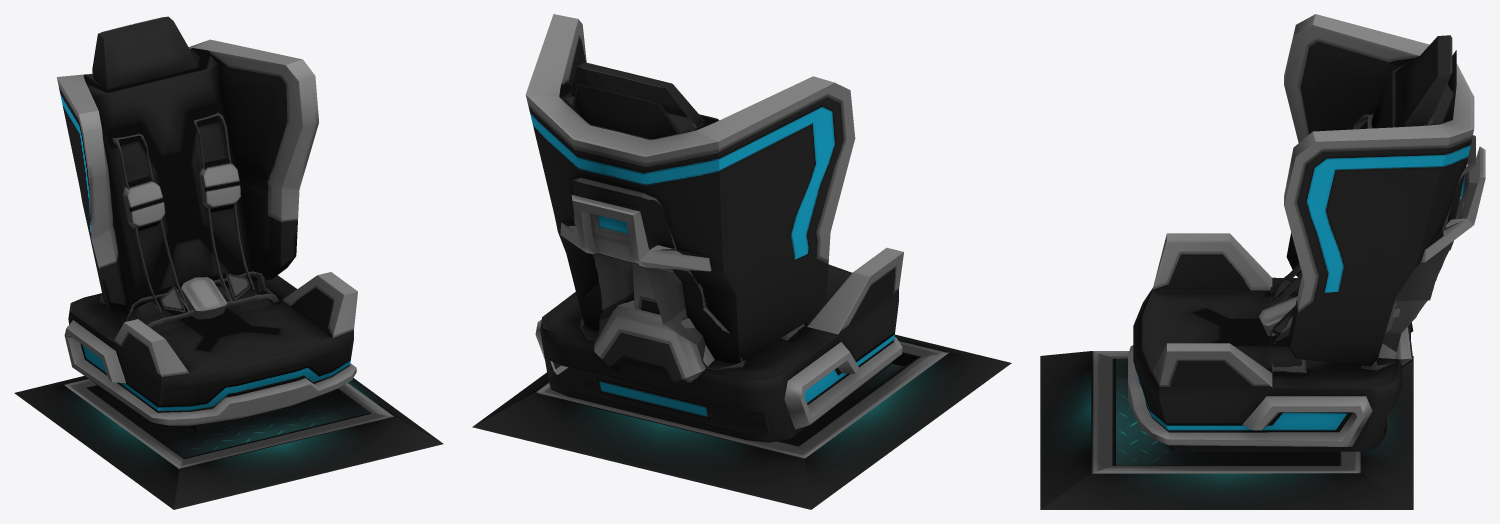
The model's file is obj_interactive_seat_05.fbx.
3 renders of one model, left to right at view 1: azimuth 30°, elevation 25°; view 2: azimuth 150°, elevation 25°; view 3: azimuth 270°, elevation 25°, orthographic. The views are drawn at different scales.
Parts seen in each view (by area): view 1: obj_interactive_seat_05; view 2: obj_interactive_seat_05; view 3: obj_interactive_seat_05.
Part boxes in pixels (x1=…): obj_interactive_seat_05: x1=14, y1=16, x2=443, y2=509; obj_interactive_seat_05: x1=472, y1=14, x2=1011, y2=509; obj_interactive_seat_05: x1=1040, y1=14, x2=1485, y2=509.
Bounding box in the file's own units: 3.5 × 4.01 × 4.28.
